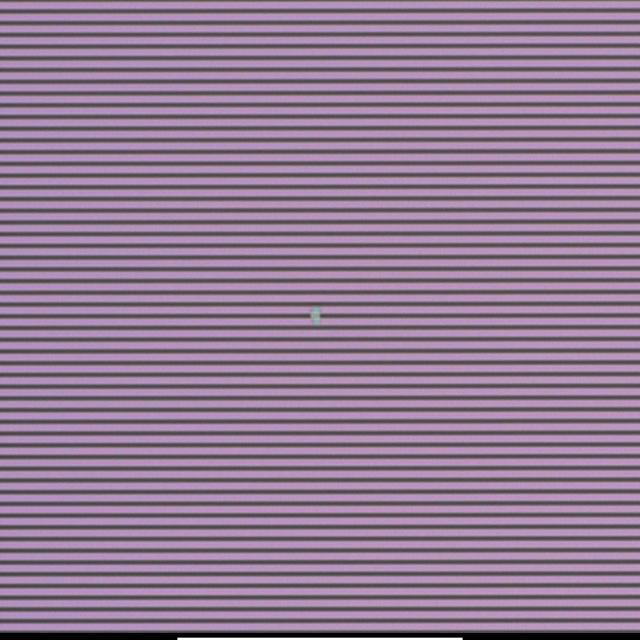03_intrusion: (300, 305, 322, 331)
